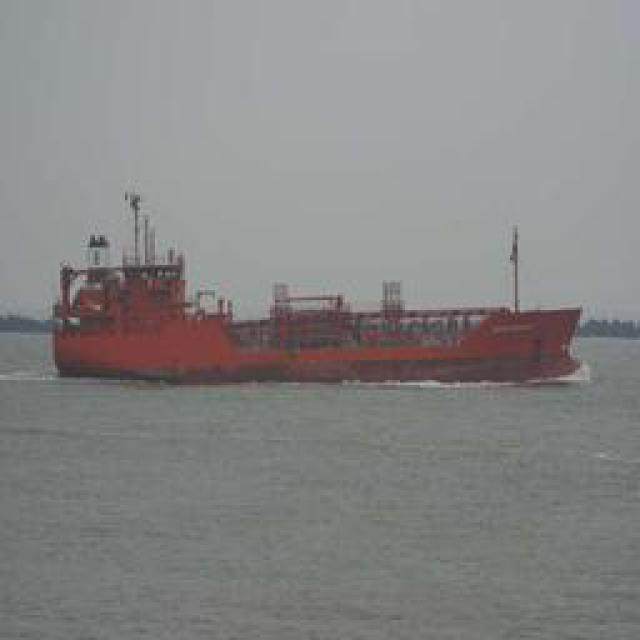Ship: (53, 286, 588, 384)
